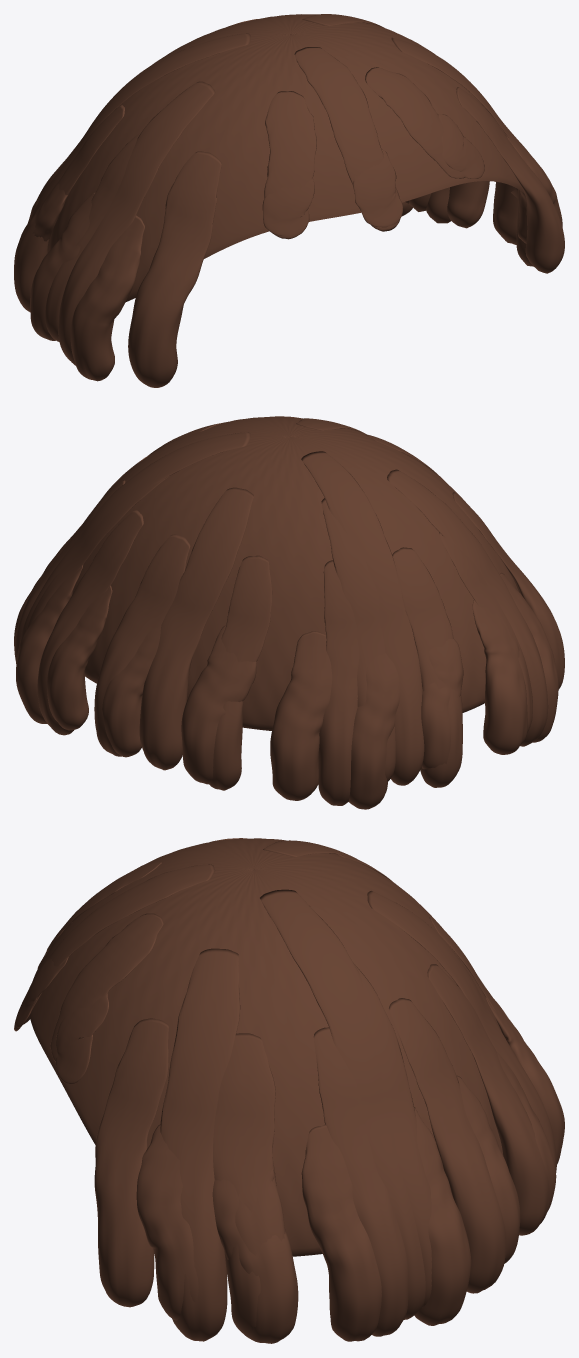
File: Masculine-locs-bucket260-hair.glb
3 views of the same model, one above another, from view 1: azimuth 30°, elevation 25°; view 2: azimuth 150°, elevation 25°; view 3: azimuth 270°, elevation 25° (orthographic). The views are drawn at different scales.
Visible parts, largest first — view 1: 226 hair / Hair260 / mature compact locs; view 2: 226 hair / Hair260 / mature compact locs; view 3: 226 hair / Hair260 / mature compact locs.
Boxes of the visible parts, bbox=[...] form: 226 hair / Hair260 / mature compact locs: bbox=[14, 14, 564, 387]; 226 hair / Hair260 / mature compact locs: bbox=[14, 416, 564, 809]; 226 hair / Hair260 / mature compact locs: bbox=[14, 838, 564, 1343].
Bounding box in the file's own units: 1.13 × 0.6053 × 0.8677.
